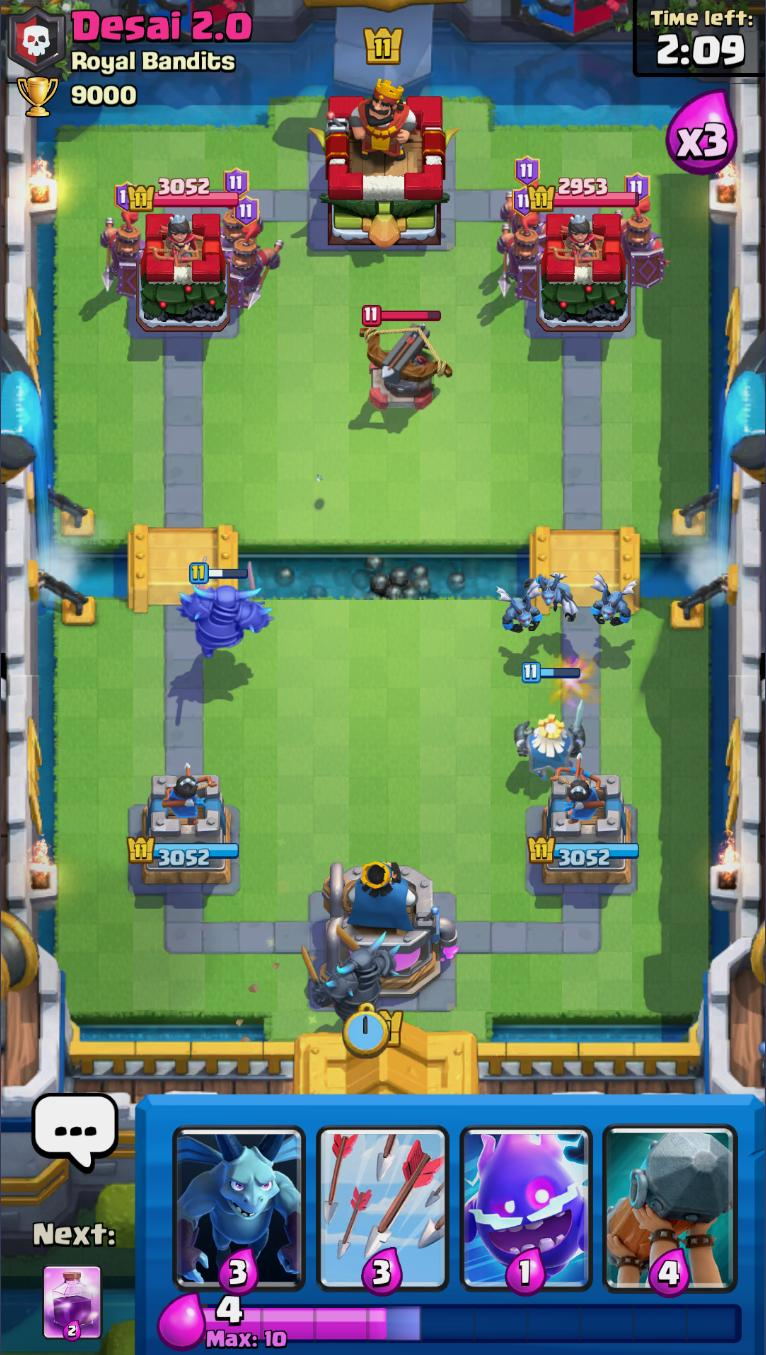ArrowDeck: (311, 1099, 454, 1296)
BattleRamDeck: (599, 1094, 741, 1296)
ElectroSpiritDeck: (456, 1096, 597, 1294)
Elixir: (201, 1296, 741, 1351)
EnemyTower: (136, 211, 234, 331), (538, 209, 632, 333), (129, 178, 239, 212), (529, 178, 640, 211)
EvoRoyalRecruit: (226, 195, 285, 311), (616, 173, 669, 288), (101, 179, 144, 302), (496, 189, 542, 302), (219, 166, 265, 254), (499, 156, 548, 238)
KingTower: (311, 79, 459, 246)
MinionsDeck: (164, 1096, 313, 1294)
MyKingTower: (317, 860, 460, 1007)
MyMinion: (523, 570, 580, 626), (589, 576, 637, 629), (496, 579, 540, 634)
MyPekka: (176, 558, 273, 660), (300, 921, 397, 1021)
MyPrincessTower: (129, 771, 240, 889), (531, 773, 639, 889)
MyPrincessTowerHP: (126, 836, 241, 867), (531, 835, 640, 866)
MyRoyaleGhost: (511, 660, 587, 777)
PrincessTower: (550, 211, 605, 264), (149, 213, 204, 264)
RageNext: (41, 1263, 103, 1343)
XBow: (354, 303, 457, 409)
